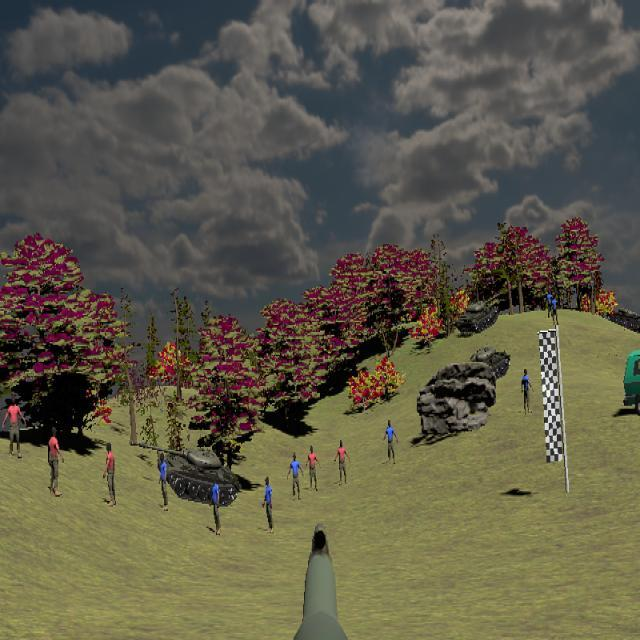Human: (3, 396, 27, 458), (48, 425, 64, 497), (103, 441, 117, 506), (333, 439, 351, 487), (287, 452, 304, 501), (305, 445, 321, 492), (383, 419, 399, 466)
Tank: (130, 439, 240, 506), (455, 297, 500, 335), (468, 344, 511, 379), (596, 305, 640, 333)
car: (623, 348, 640, 416)
